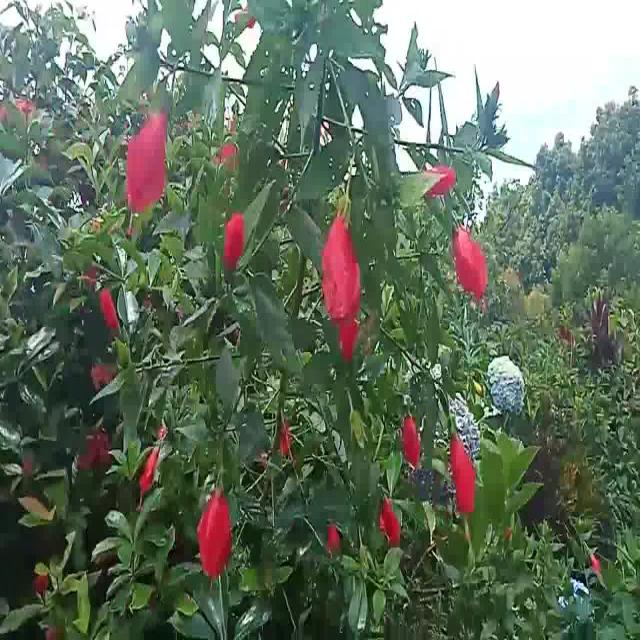Flower: (320, 192, 370, 365), (121, 90, 181, 222), (196, 466, 232, 587), (446, 416, 476, 524), (455, 216, 489, 308), (490, 352, 524, 418), (421, 158, 461, 207), (400, 407, 426, 474), (378, 493, 402, 551), (97, 286, 123, 339), (223, 213, 244, 278)
